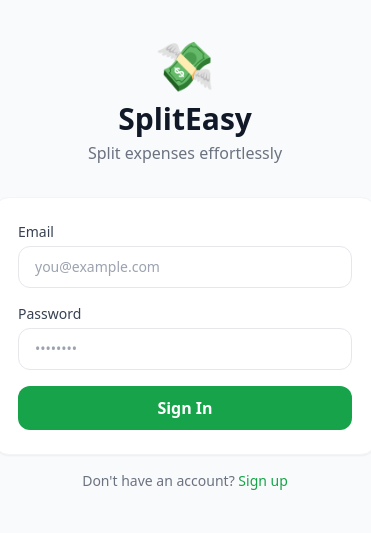
LoginPage › shows error message on login failure
The image size is (371, 533).
Type "a@b.com" into the field labelled "Email" at point(185, 267), box [18,246,352,288]
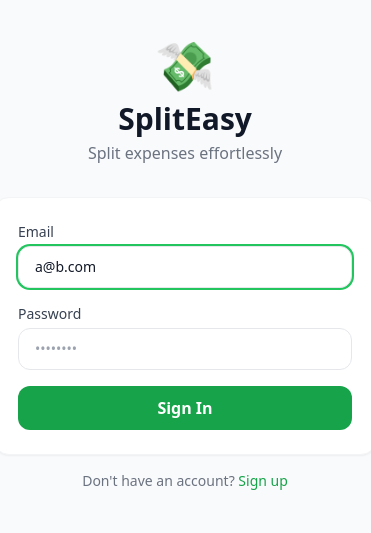
Type "wrong" into the password field labelled "Password" at point(185, 349), box [18,328,352,370]
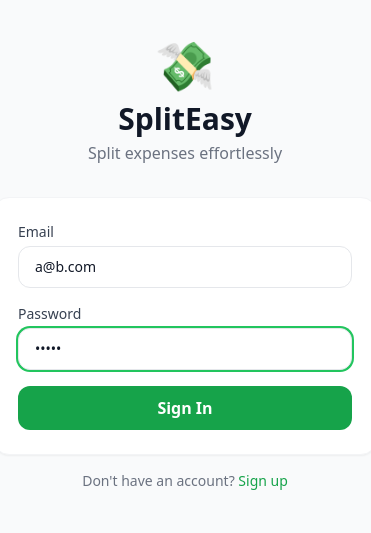
Click the button "Sign In" at point(185, 408), box [18,386,352,430]
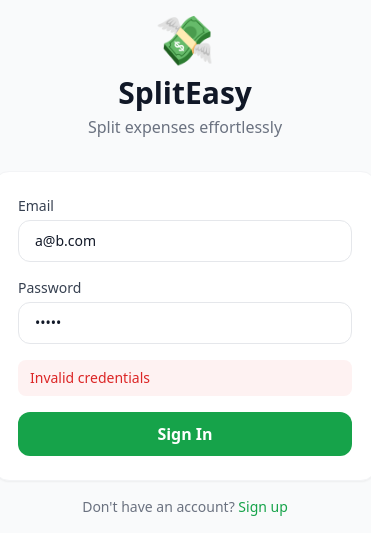
Expected: the text "Invalid credentials" is shown, [18,360,352,396]
